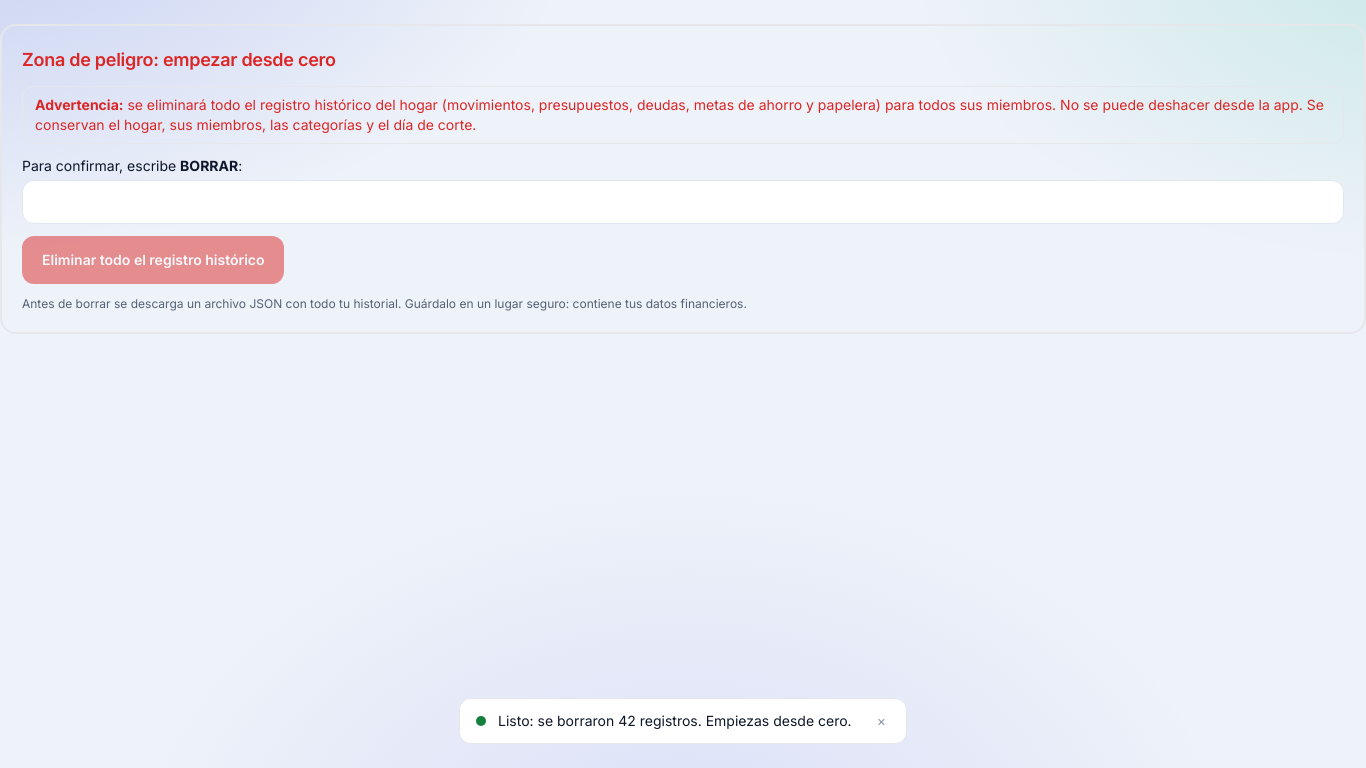
DangerZone › si el respaldo falla, no borra nada
Check: the button "Eliminar todo el registro histórico" is disabled, box [22,236,284,284]
Type "borrar" into the field labelled "Para confirmar, escribe BORRAR:" at (683, 202), box [22,180,1344,224]
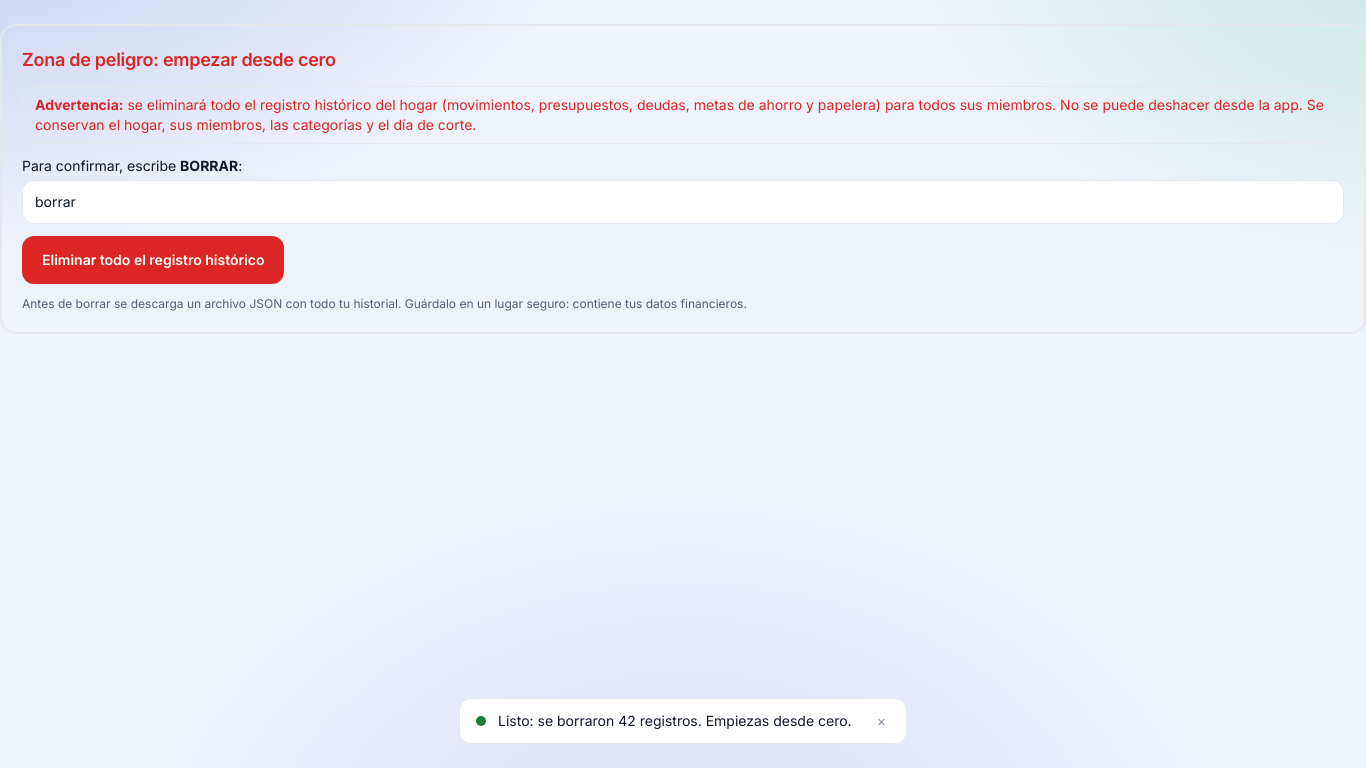
Check: the button "Eliminar todo el registro histórico" is enabled
Click the button "Eliminar todo el registro histórico" at (153, 260), box [22,236,284,284]
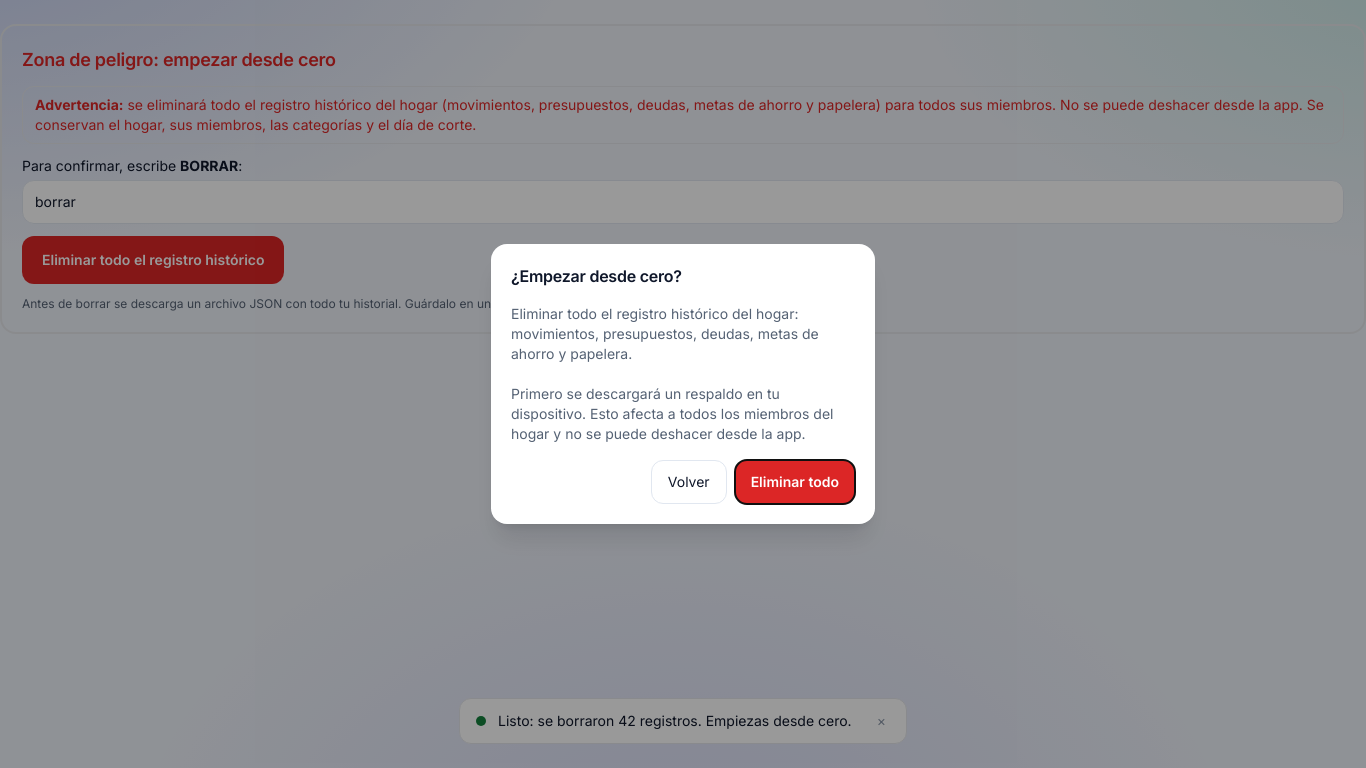
Check: the dialog is shown, box [491,244,875,524]
Click the button "Eliminar todo" at (795, 482), box [735,460,855,504]
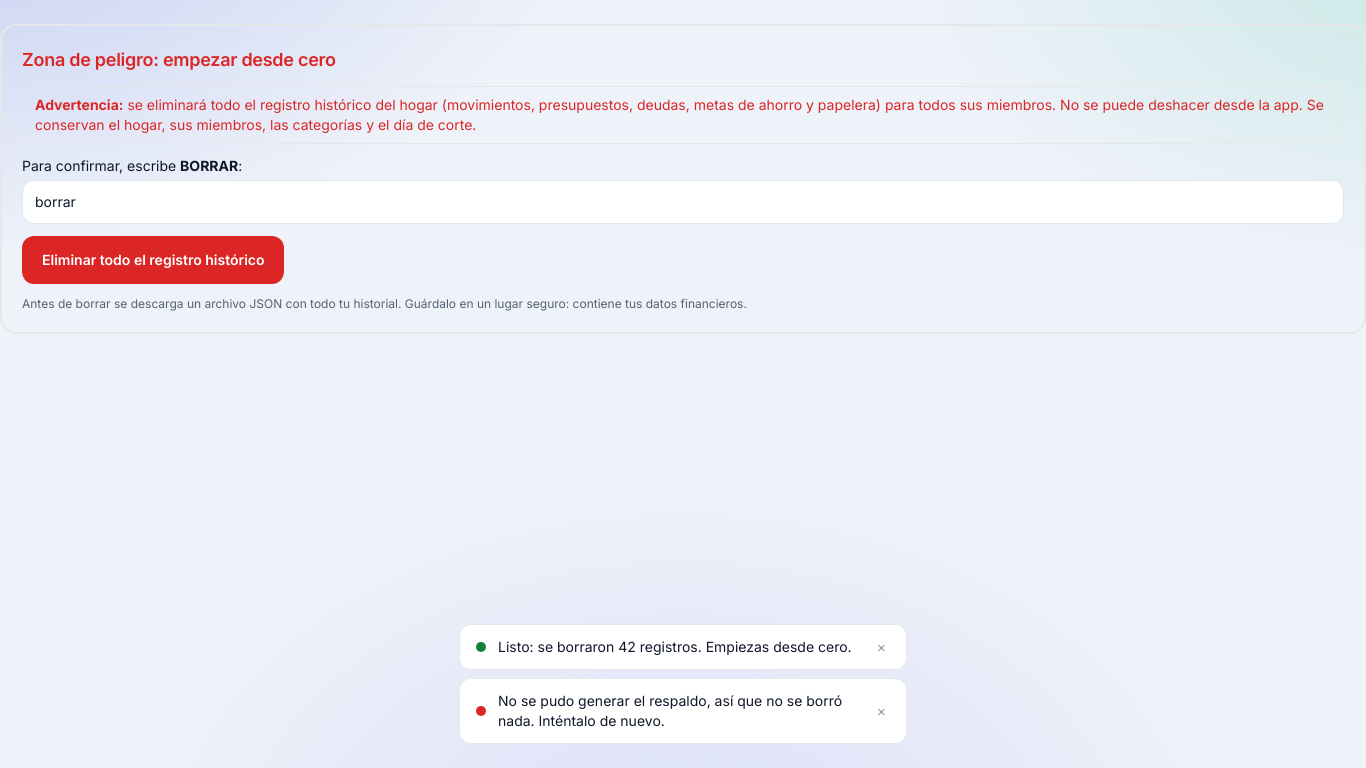
Check: the text "no se borró nada" is shown, box [498,692,842,729]
